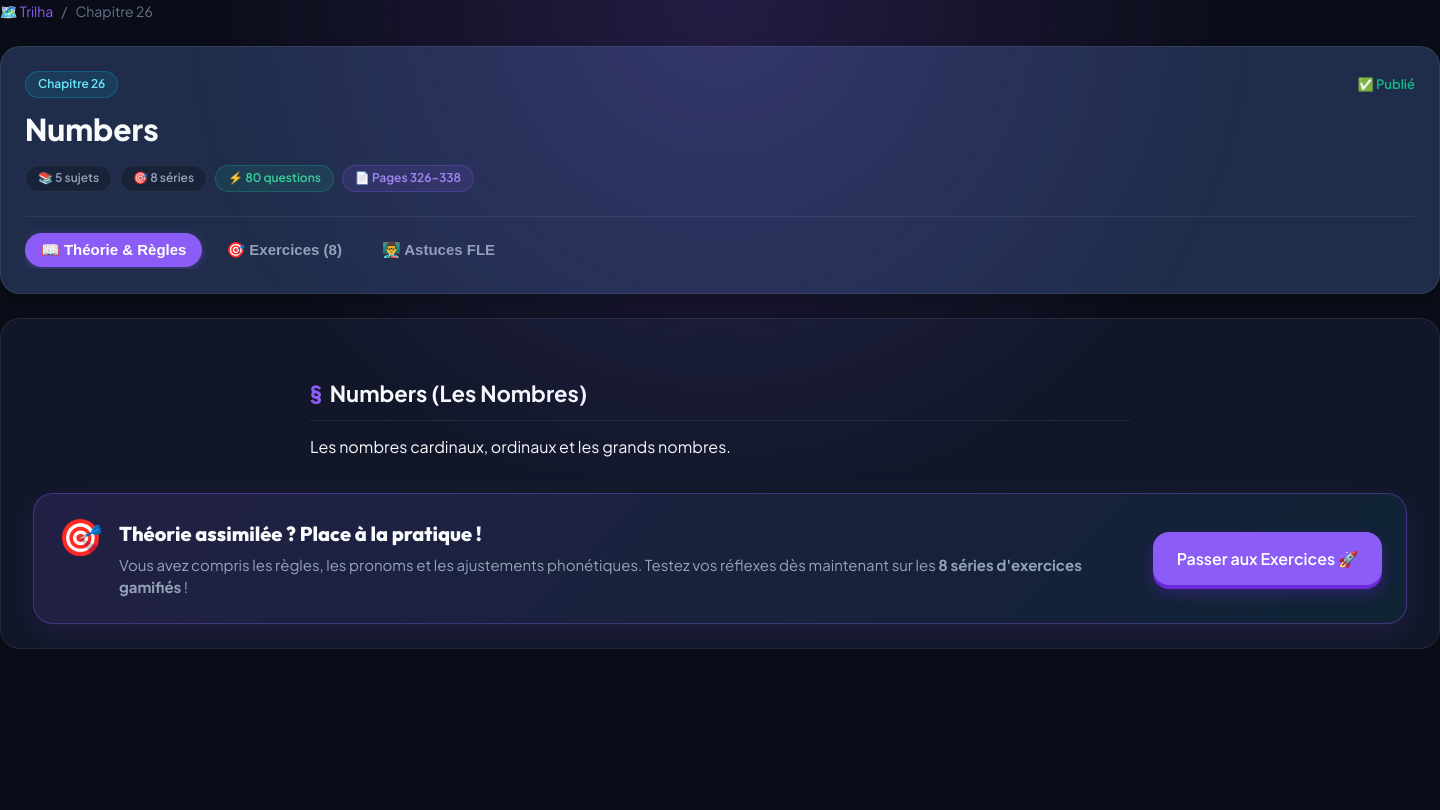
Scenario: ChapterPage Component › affiche la théorie, les 8 séries d exercices et les astuces FLE pour le chapitre 26 (Numbers)
Expected: the heading "Numbers" is shown, x1=25 y1=110 x2=159 y2=148
Expected: the text "Les nombres cardinaux, ordinaux et les grands nombres." is shown, x1=310 y1=436 x2=731 y2=457
Note: Passage à l'onglet Exercices (8)
Click the tab "🎯 Exercices (8)": coordinates (284, 250) x1=210 y1=233 x2=358 y2=267
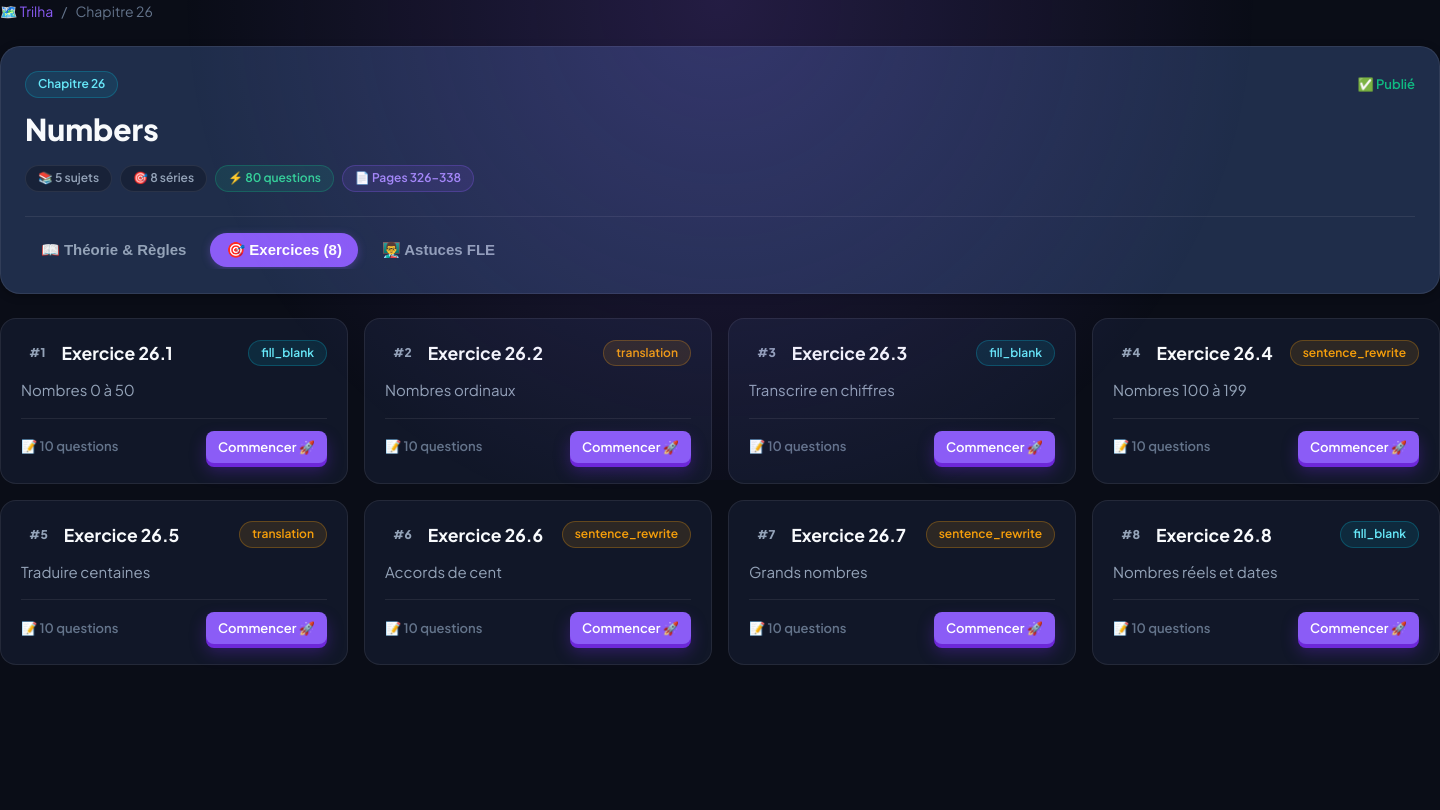
Expected: the heading "Exercice 26.1" is shown, x1=62 y1=339 x2=173 y2=367
Expected: the heading "Exercice 26.4" is shown, x1=1156 y1=339 x2=1273 y2=367
Expected: the heading "Exercice 26.8" is shown, x1=1156 y1=521 x2=1272 y2=549
Note: Passage à l'onglet Astuces FLE
Click the tab "👨‍🏫 Astuces FLE": coordinates (438, 250) x1=366 y1=233 x2=511 y2=267
(page scrolled)
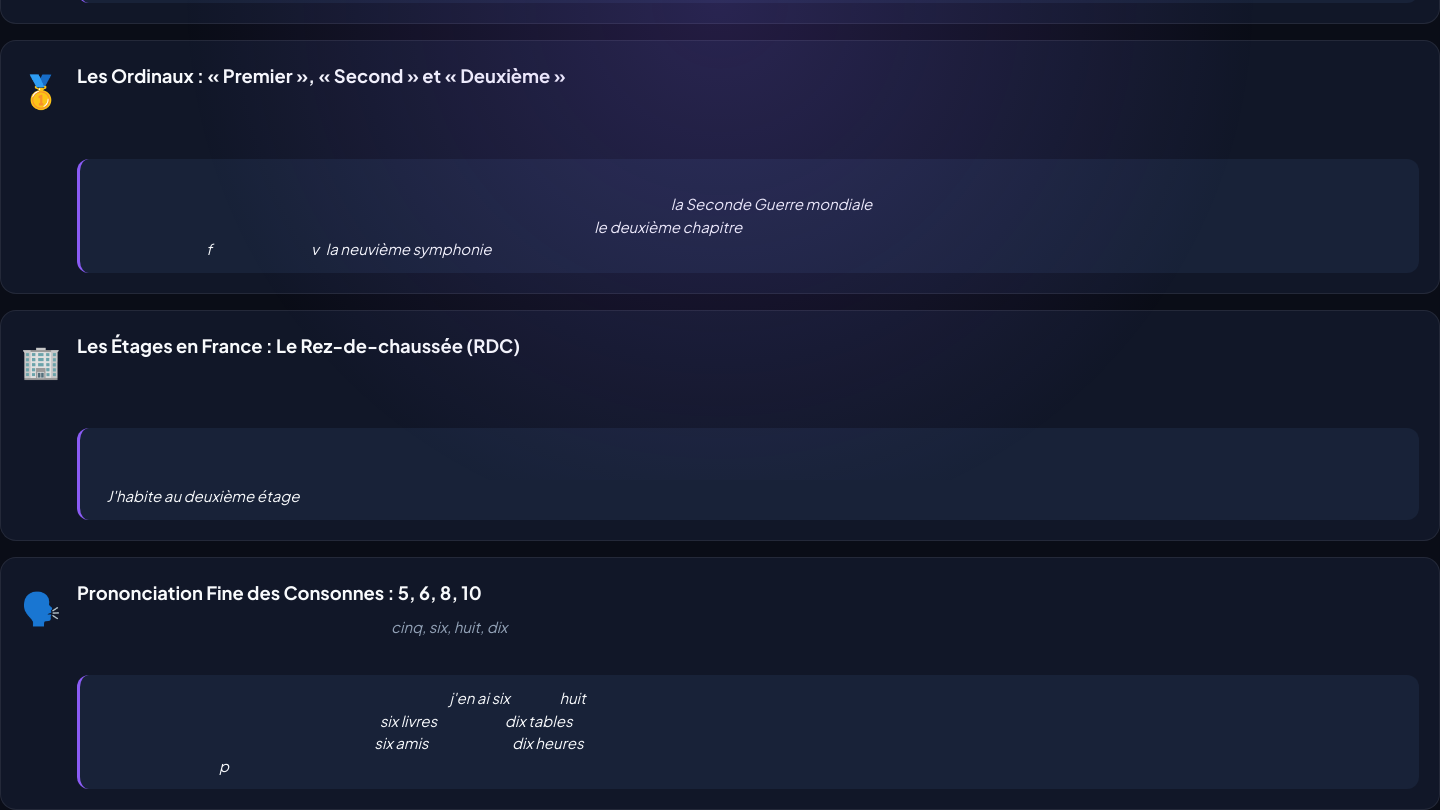
Expected: the heading "Les Ordinaux : « Premier », « Second » et « Deuxième »" is shown, x1=77 y1=64 x2=566 y2=87
Expected: the heading "Les Étages en France : Le Rez-de-chaussée (RDC)" is shown, x1=77 y1=334 x2=520 y2=357
Expected: the heading "Prononciation Fine des Consonnes : 5, 6, 8, 10" is shown, x1=77 y1=581 x2=482 y2=604
